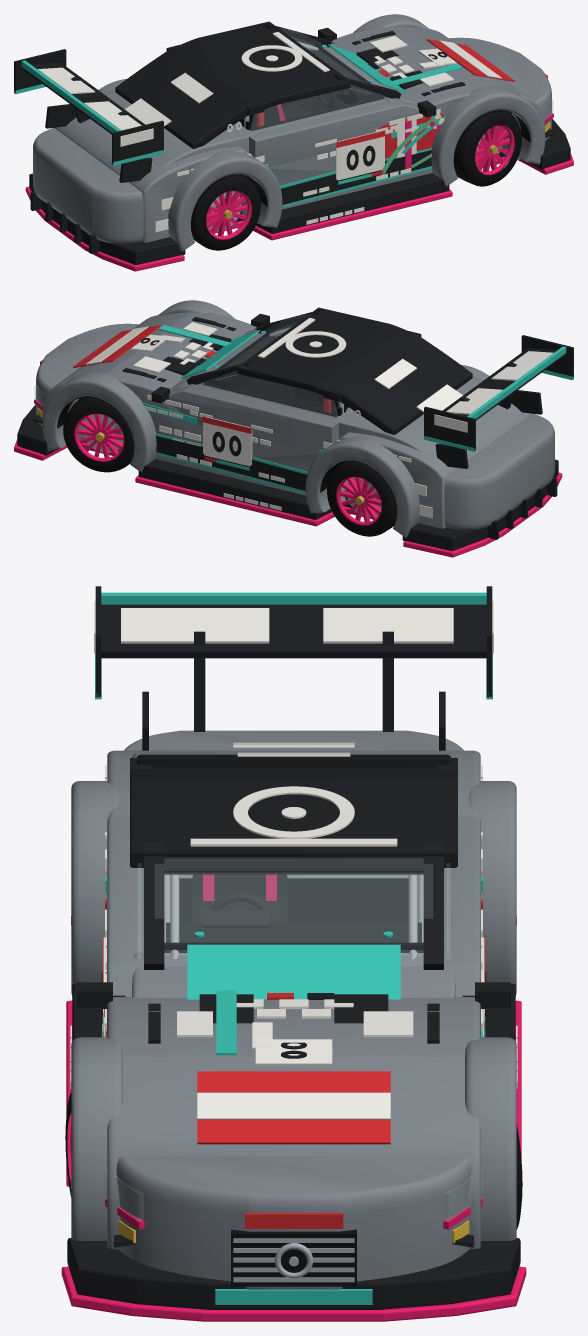
File: gt3drift00.glb
3 renders of one model, top to bottom at view 1: azimuth 30°, elevation 25°; view 2: azimuth 150°, elevation 25°; view 3: azimuth 270°, elevation 25°, orthographic. The views are drawn at different scales.
Visible parts, largest first — view 1: body_shell, tail_cap, roof_skin, backlight, floor_splitter, door_top_l, tyre (×2), flare_front_l, flare_rear_l, aero_lip, glass_side_l, nose_cap (+38 smaller); view 2: body_shell, tail_cap, roof_skin, backlight, floor_splitter, door_top_r, tyre (×2), flare_rear_r, flare_front_r, aero_lip, glass_side_r, nose_cap (+35 smaller); view 3: body_shell, nose_cap, roof_skin, windscreen, floor_splitter, wing_plane, cowl_band, nose_graphic, flare_front_l, flare_front_r, aero_lip, flare_rear_r (+31 smaller).
Part boxes in pixels (left/top/right/bottom): body_shell: left=52, top=26, right=544, bottom=242; tail_cap: left=33, top=128, right=143, bottom=243; roof_skin: left=179, top=21, right=350, bottom=115; backlight: left=115, top=46, right=253, bottom=148; floor_splitter: left=29, top=118, right=570, bottom=264; door_top_l: left=249, top=98, right=420, bottom=167; tyre (×2): left=191, top=112, right=521, bottom=250; flare_front_l: left=431, top=86, right=545, bottom=186; flare_rear_l: left=168, top=150, right=282, bottom=251; aero_lip: left=25, top=153, right=573, bottom=271; glass_side_l: left=249, top=85, right=392, bottom=133; nose_cap: left=449, top=37, right=551, bottom=157; body_shell: left=43, top=312, right=535, bottom=528; tail_cap: left=444, top=414, right=554, bottom=529; roof_skin: left=237, top=307, right=408, bottom=401; backlight: left=334, top=332, right=472, bottom=434; floor_splitter: left=17, top=404, right=558, bottom=550; door_top_r: left=167, top=384, right=338, bottom=453; tyre (×2): left=63, top=398, right=396, bottom=536; flare_rear_r: left=305, top=436, right=419, bottom=537; flare_front_r: left=42, top=372, right=156, bottom=472; aero_lip: left=14, top=439, right=562, bottom=557; glass_side_r: left=195, top=371, right=338, bottom=419; nose_cap: left=36, top=323, right=138, bottom=439; body_shell: left=107, top=750, right=480, bottom=1249; nose_cap: left=116, top=1156, right=471, bottom=1289; roof_skin: left=130, top=767, right=457, bottom=867; windscreen: left=155, top=858, right=432, bottom=965; floor_splitter: left=67, top=983, right=520, bottom=1309; wing_plane: left=101, top=604, right=486, bottom=658; cowl_band: left=187, top=944, right=400, bottom=999; nose_graphic: left=197, top=1071, right=390, bottom=1144; flare_front_l: left=71, top=1037, right=122, bottom=1240; flare_front_r: left=465, top=1037, right=516, bottom=1240; aero_lip: left=61, top=916, right=526, bottom=1321; flare_rear_r: left=468, top=781, right=516, bottom=996.
Size of the model in its own units: 4.89 by 1.39 by 2.07.
